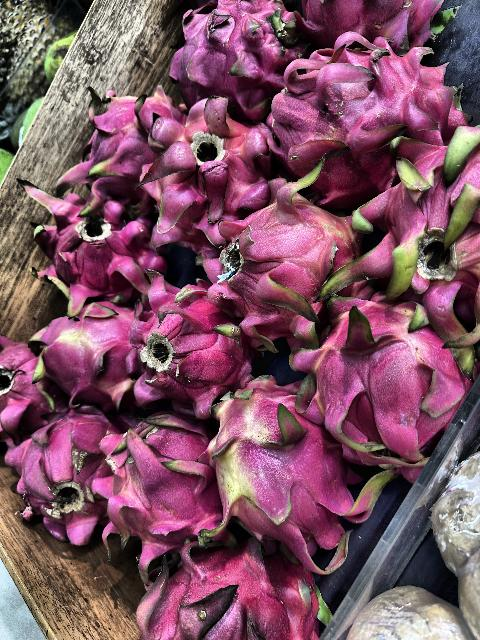buah-naga-belum-matang: (208, 388, 358, 546), (204, 190, 354, 314), (63, 77, 168, 186), (35, 298, 141, 394)
buah-naga-matang: (272, 36, 466, 186), (309, 290, 469, 460), (368, 129, 480, 301), (136, 540, 322, 640), (96, 408, 222, 552), (17, 174, 157, 298), (140, 103, 264, 241), (122, 280, 246, 402), (164, 0, 284, 101), (13, 411, 114, 529), (290, 0, 454, 46), (0, 332, 40, 436)
